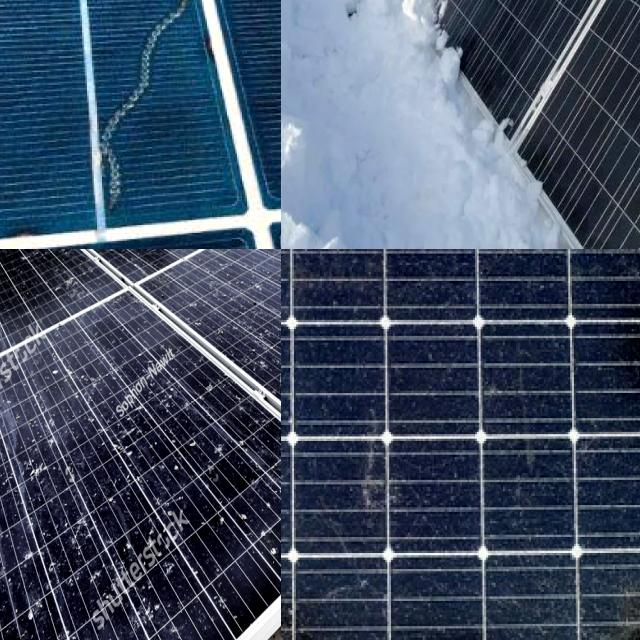bird: (124, 575, 170, 633), (19, 448, 68, 492), (64, 508, 94, 578), (14, 538, 52, 583), (18, 586, 51, 636), (263, 520, 281, 575), (212, 506, 252, 530), (0, 434, 15, 487), (184, 424, 206, 454)
dust: (281, 249, 477, 544), (488, 337, 640, 638), (281, 249, 369, 640), (281, 558, 478, 640), (479, 249, 640, 349), (281, 249, 466, 299), (281, 249, 324, 325), (281, 249, 325, 301)
panel: (281, 0, 391, 114), (430, 26, 514, 168), (493, 170, 630, 249), (362, 0, 458, 44)
shadow: (94, 0, 184, 213)
